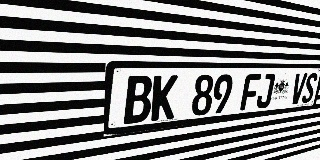8: (191, 74, 215, 116)
9: (211, 74, 234, 114)
B: (123, 75, 153, 124)
F: (240, 74, 261, 111)
J: (255, 74, 276, 109)
K: (150, 75, 178, 121)
S: (301, 73, 318, 103)
V: (289, 73, 307, 105)
